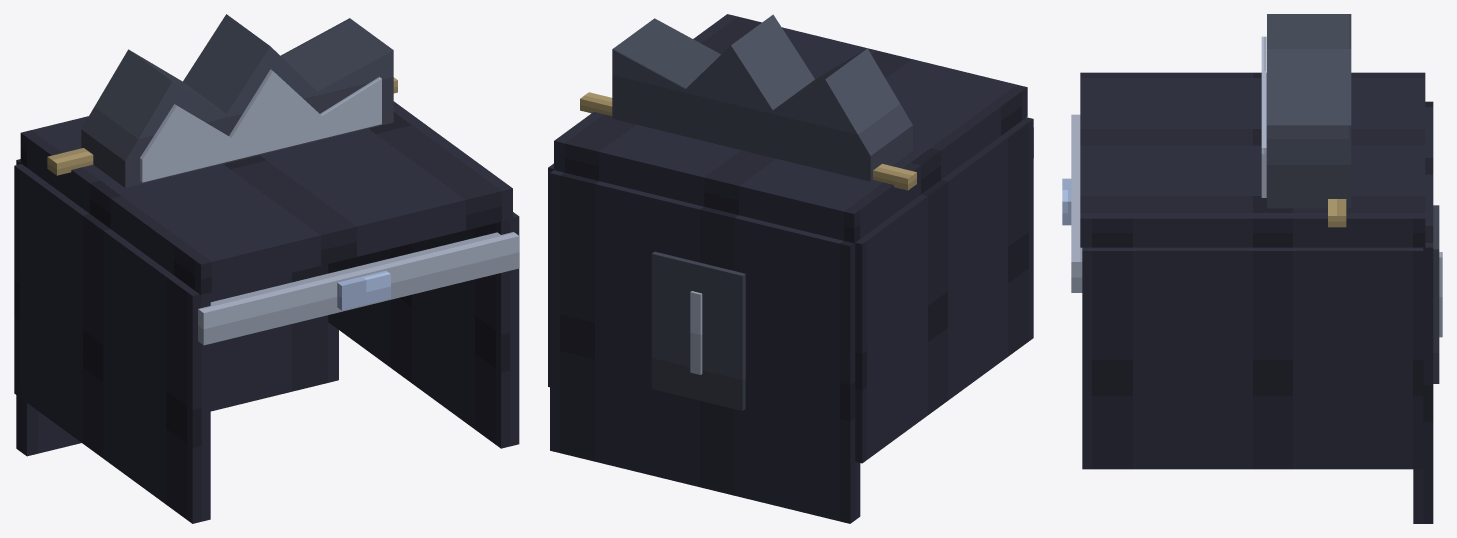
Rendered from jindan_zixiao_helmet.obj.
The picture shows the model from 3 angles, left to right: view 1: azimuth 30°, elevation 25°; view 2: azimuth 150°, elevation 25°; view 3: azimuth 270°, elevation 25°; orthographic projection. The views are drawn at different scales.
Visible parts, largest first — view 1: cap_top, cap_side_-1, zx_crown, cap_side_1, cap_back, cap_brow, zx_crown_face, zx_brow, zx_crown_pin; view 2: cap_back, cap_side_-1, cap_top, zx_crown, zx_cap_rear, zx_crown_pin, zx_rear_mark; view 3: cap_side_1, cap_top, zx_crown, cap_back, cap_brow, zx_cap_rear, zx_crown_face, zx_crown_pin, zx_brow.
Boxes of the visible parts, left/top/right/bottom form: cap_top: left=20, top=101, right=512, bottom=294; cap_side_-1: left=14, top=164, right=210, bottom=523; zx_crown: left=81, top=14, right=393, bottom=187; cap_side_1: left=328, top=212, right=519, bottom=448; cap_back: left=16, top=159, right=338, bottom=456; cap_brow: left=198, top=232, right=519, bottom=345; zx_crown_face: left=140, top=69, right=381, bottom=182; zx_brow: left=337, top=270, right=390, bottom=310; zx_crown_pin: left=47, top=77, right=397, bottom=175; cap_back: left=550, top=170, right=860, bottom=523; cap_side_-1: left=855, top=117, right=1033, bottom=463; cap_top: left=554, top=14, right=1027, bottom=243; zx_crown: left=612, top=14, right=912, bottom=181; zx_cap_rear: left=651, top=251, right=745, bottom=410; zx_crown_pin: left=580, top=92, right=916, bottom=190; zx_rear_mark: left=690, top=291, right=702, bottom=374; cap_side_1: left=1082, top=247, right=1423, bottom=469; cap_top: left=1080, top=72, right=1425, bottom=247; zx_crown: left=1267, top=14, right=1351, bottom=208; cap_back: left=1413, top=101, right=1433, bottom=523; cap_brow: left=1071, top=114, right=1082, bottom=292; zx_cap_rear: left=1433, top=205, right=1439, bottom=383; zx_crown_face: left=1261, top=36, right=1266, bottom=197; zx_crown_pin: left=1328, top=199, right=1346, bottom=227; zx_brow: left=1062, top=178, right=1071, bottom=225.
Size of the model in its own units: 0.5875 by 0.7 by 0.5925.
